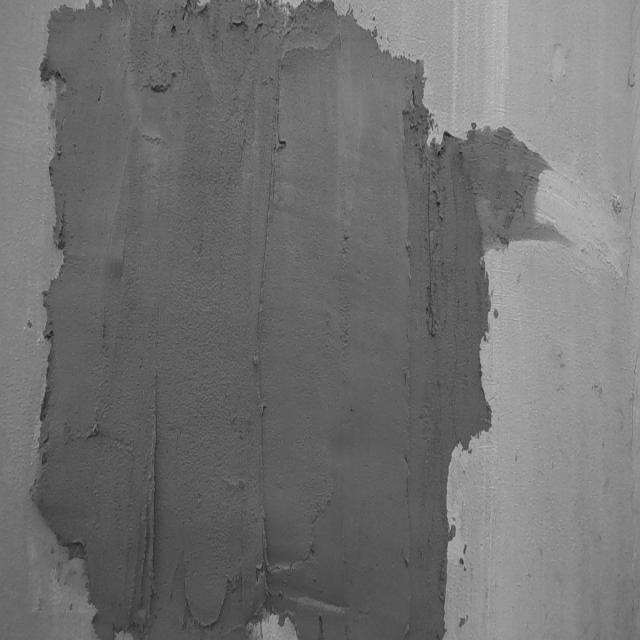trowels marks: (250, 79, 286, 574), (134, 331, 160, 633)
